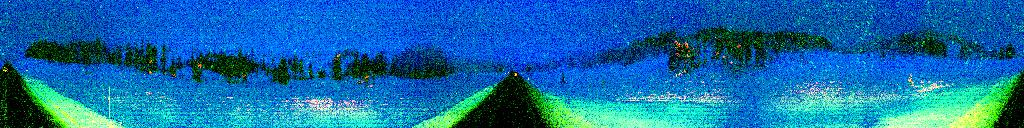pole: (107, 84, 112, 120)
